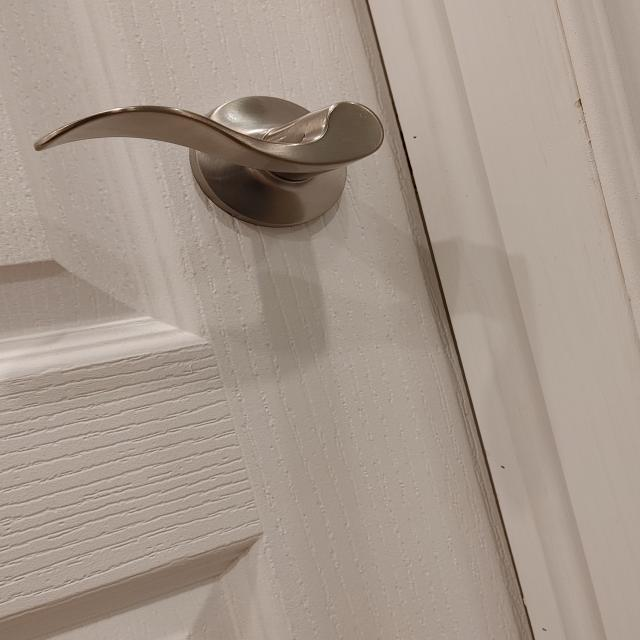door-handle: (35, 96, 383, 226)
